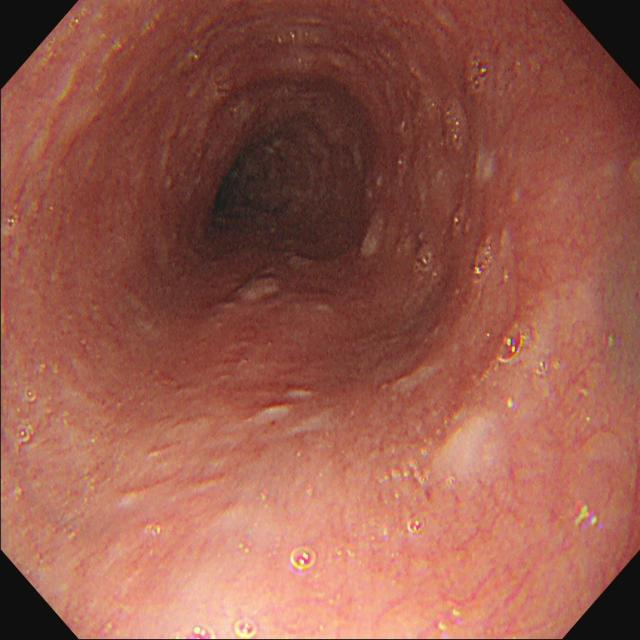E: (213, 143, 304, 231)
T: (377, 459, 436, 494), (18, 384, 38, 448), (495, 323, 524, 364), (463, 50, 490, 91), (443, 105, 468, 147), (287, 545, 321, 573), (412, 244, 436, 278), (232, 618, 261, 640), (6, 211, 21, 232)
